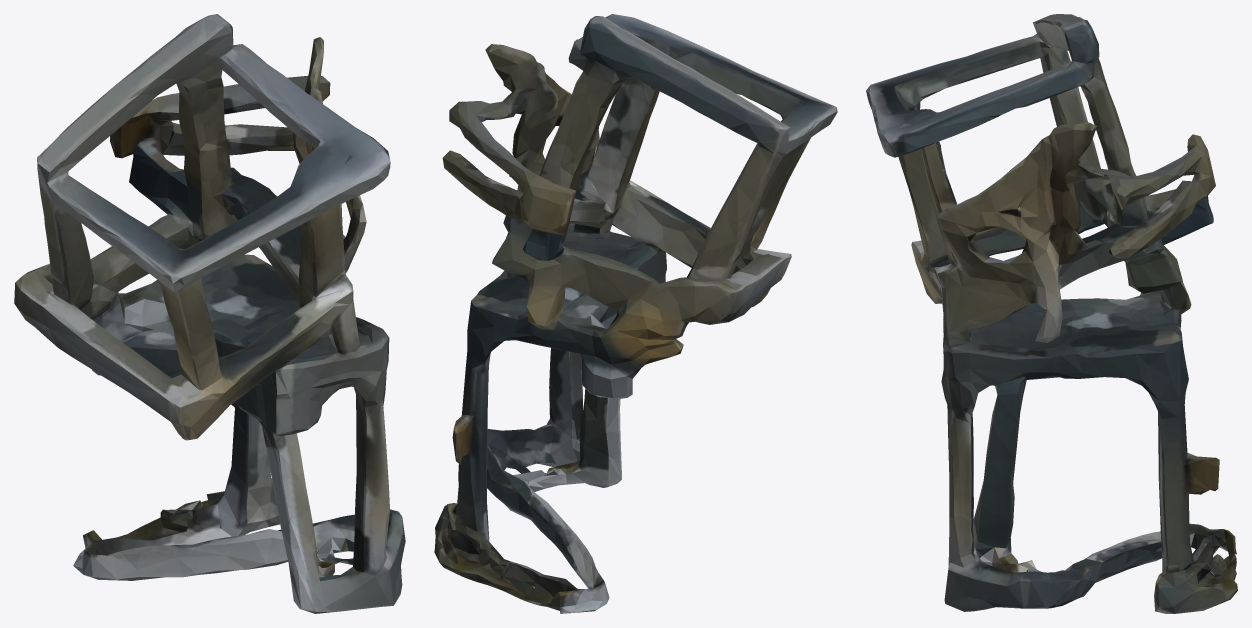
The model's file is pabellon_miami.glb.
3 renders of one model, left to right at view 1: azimuth 30°, elevation 25°; view 2: azimuth 150°, elevation 25°; view 3: azimuth 270°, elevation 25°, orthographic. The views are drawn at different scales.
Visible parts, largest first — view 1: tmpo6iot7ki.ply; view 2: tmpo6iot7ki.ply; view 3: tmpo6iot7ki.ply.
Boxes of the visible parts, <box> form: tmpo6iot7ki.ply: <box>14,14,405,613</box>; tmpo6iot7ki.ply: <box>434,14,837,613</box>; tmpo6iot7ki.ply: <box>866,14,1237,613</box>.
Size of the model in its own units: 1.26 by 1.99 by 1.22.
Materials: 1 (1 with a texture image).
